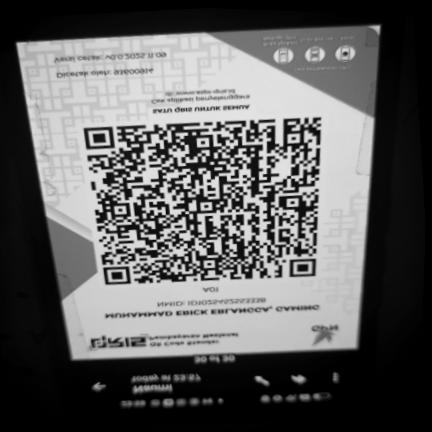Cara Pakai QRIS: (256, 28, 376, 77)
Cek Aplikasi Penyelenggara: (146, 84, 255, 106)
Dicetak Oleh: (50, 65, 160, 83)
Logo GPN: (302, 321, 343, 348)
Logo dan deskripsi QRIS: (80, 326, 246, 354)
Nama Merchant: (101, 302, 328, 322)
National Merchant ID: (151, 295, 275, 308)
QR Code: (78, 112, 329, 289)
Slogan: (148, 103, 255, 116)
Terminal ID: (198, 286, 224, 294)
Versi Cetak: (46, 48, 171, 68)
